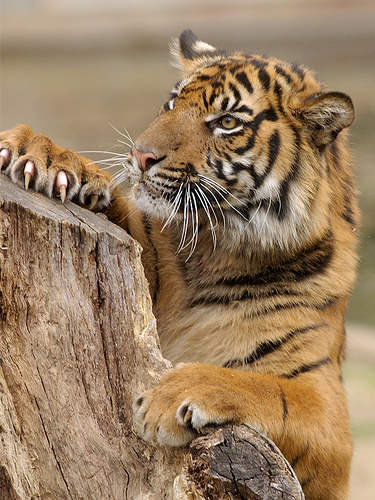Tigre: (26, 37, 353, 478)
